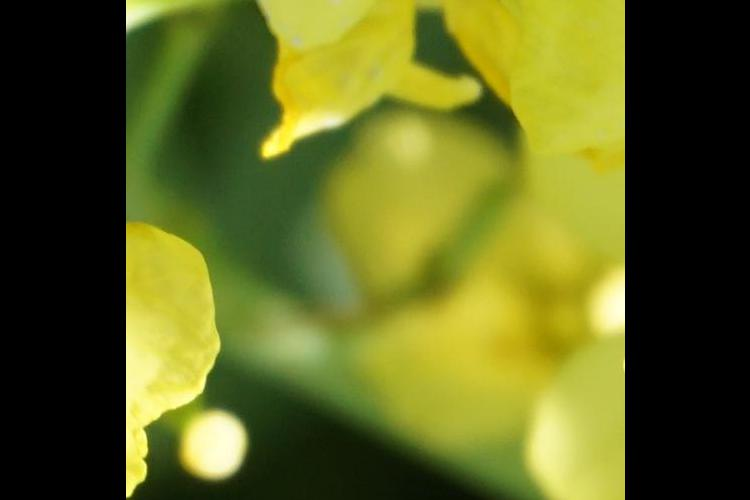yellow: (239, 1, 608, 161), (127, 224, 245, 500)
